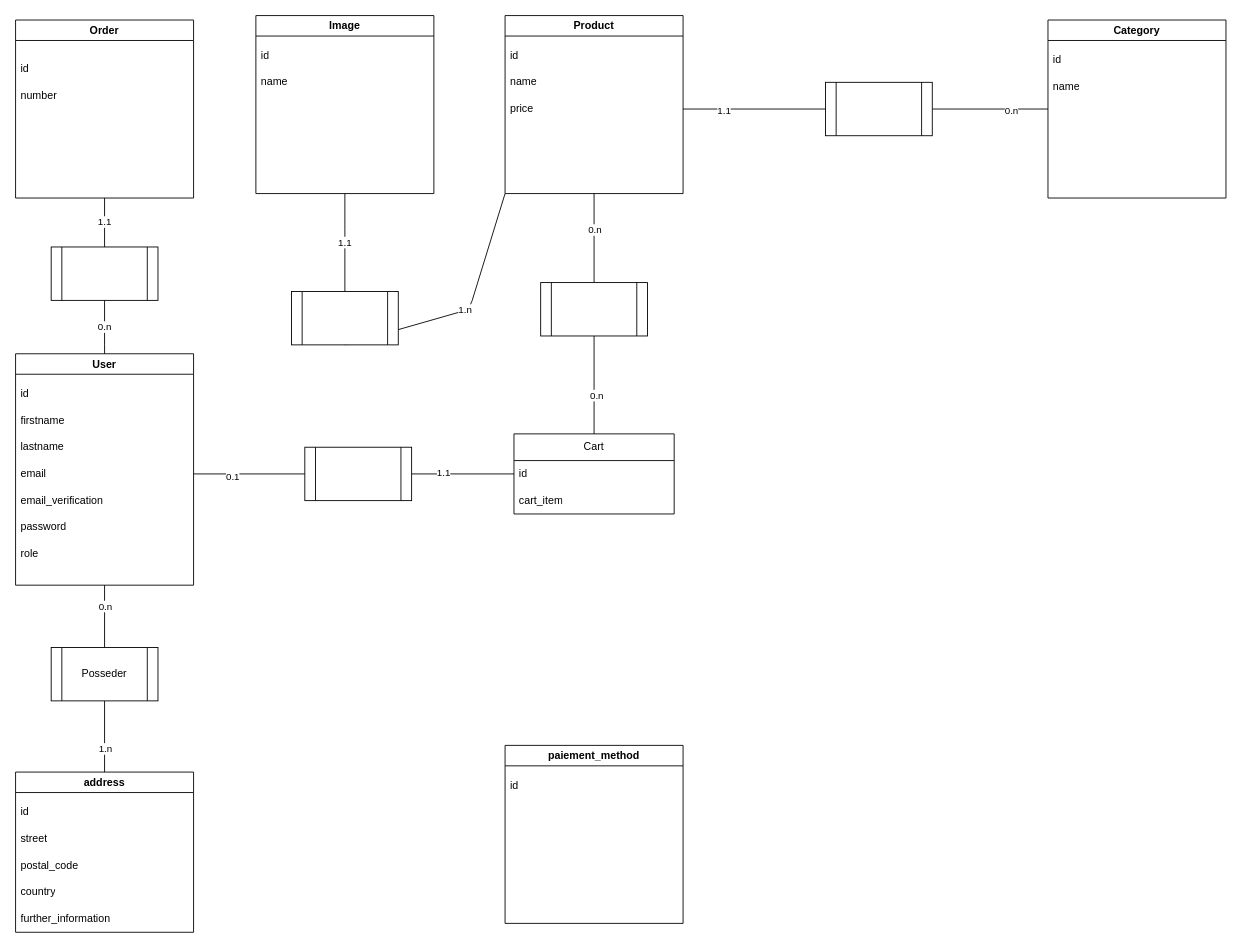
This 1242x948 diagram has some shape labels left out. The shapes that lost their labels are listed below. From the top down, each one's centre as x and y in pixels, then its label:
[878,108]: Avoir
[104,273]: Passer
[344,318]: Bénéficier
[593,309]: Composer (quantité)
[358,473]: Détenir
